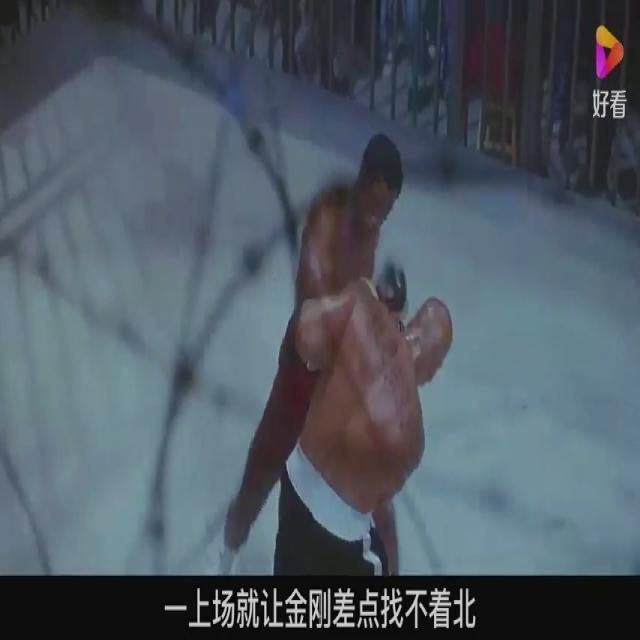fight: (212, 121, 456, 574)
